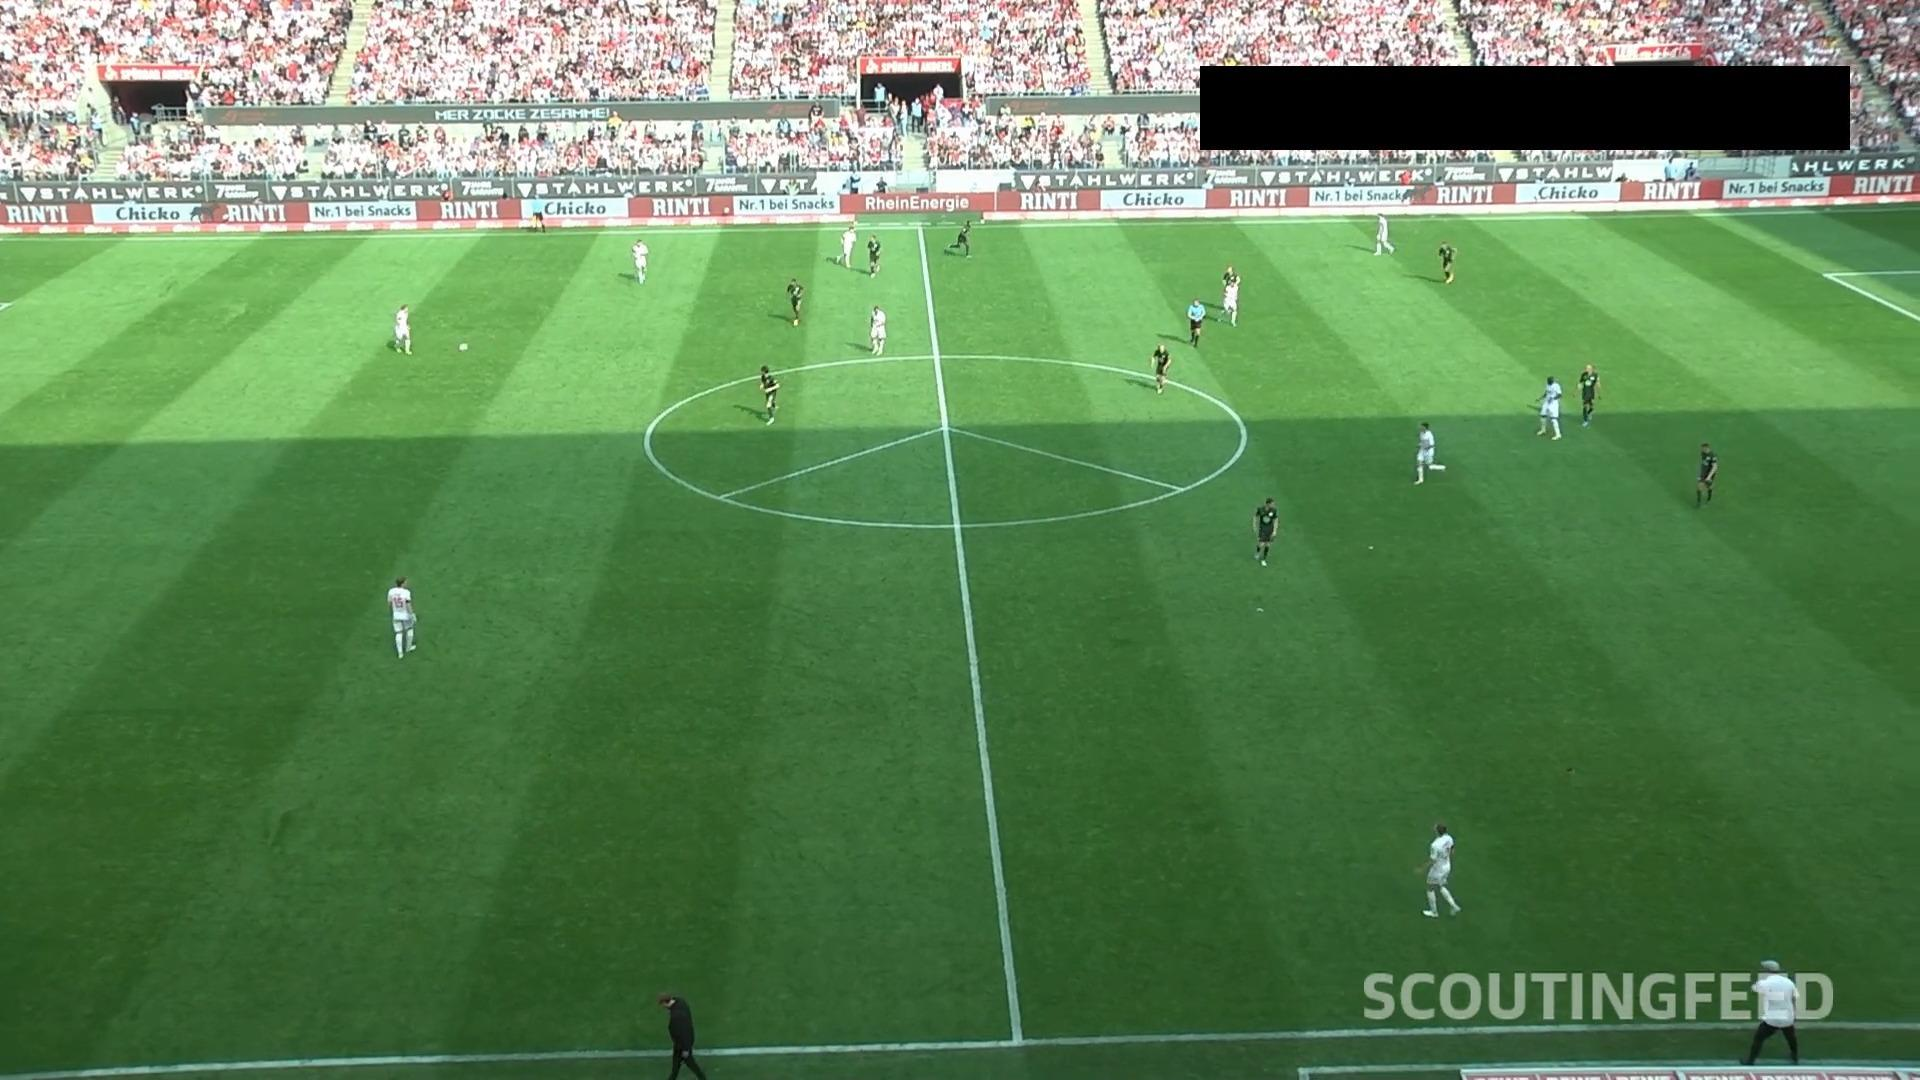ball: (458, 342, 469, 352)
